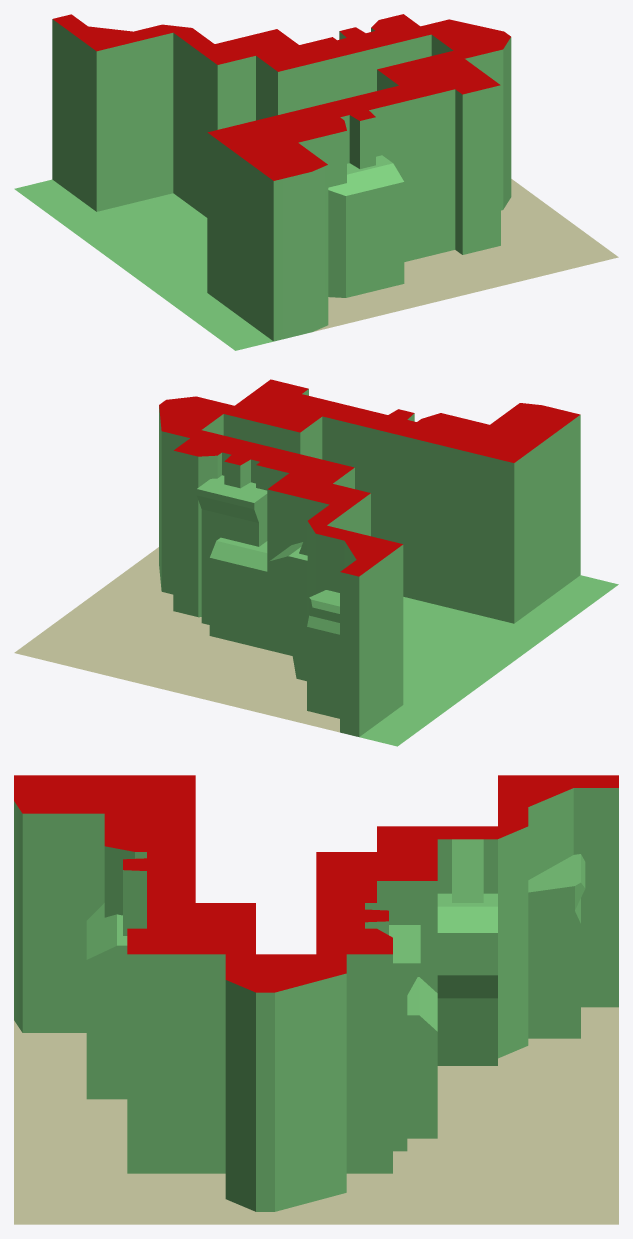
The model's file is x_oo_ground_25_wall1_rmstrd.fbx.
3 renders of one model, top to bottom at view 1: azimuth 30°, elevation 25°; view 2: azimuth 150°, elevation 25°; view 3: azimuth 270°, elevation 25°, orthographic. The views are drawn at different scales.
Parts seen in each view (by area): view 1: x_oo_ground_25_wall1_rmstrd1; view 2: x_oo_ground_25_wall1_rmstrd1; view 3: x_oo_ground_25_wall1_rmstrd1.
Part boxes in pixels (box(x1,y1,x2,y2)): x_oo_ground_25_wall1_rmstrd1: box(14, 14, 618, 350); x_oo_ground_25_wall1_rmstrd1: box(14, 379, 618, 746); x_oo_ground_25_wall1_rmstrd1: box(14, 775, 618, 1224).
Size of the model in its own units: 10 by 4 by 10.
